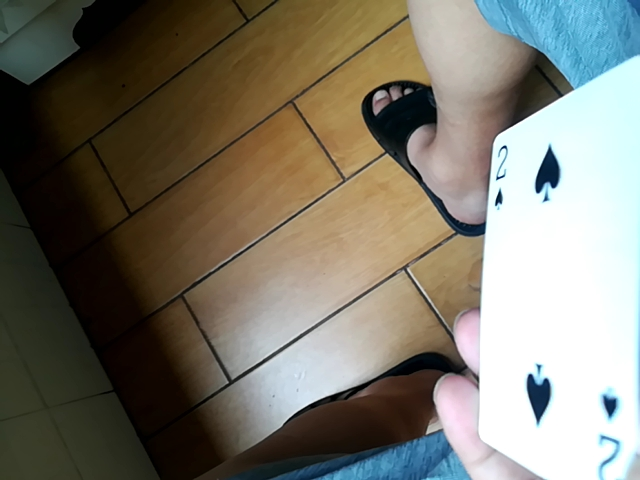ht 2: (473, 29, 640, 473)
